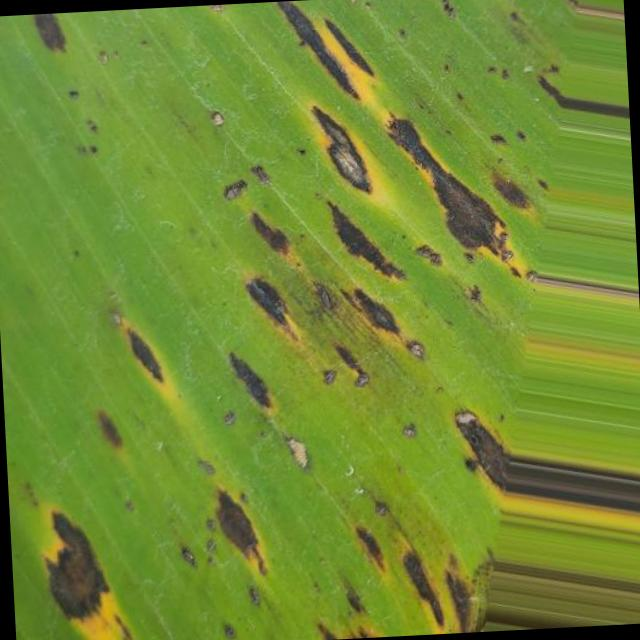Banana_Black_Sigatoka: (22, 384, 488, 640), (260, 0, 534, 349)
